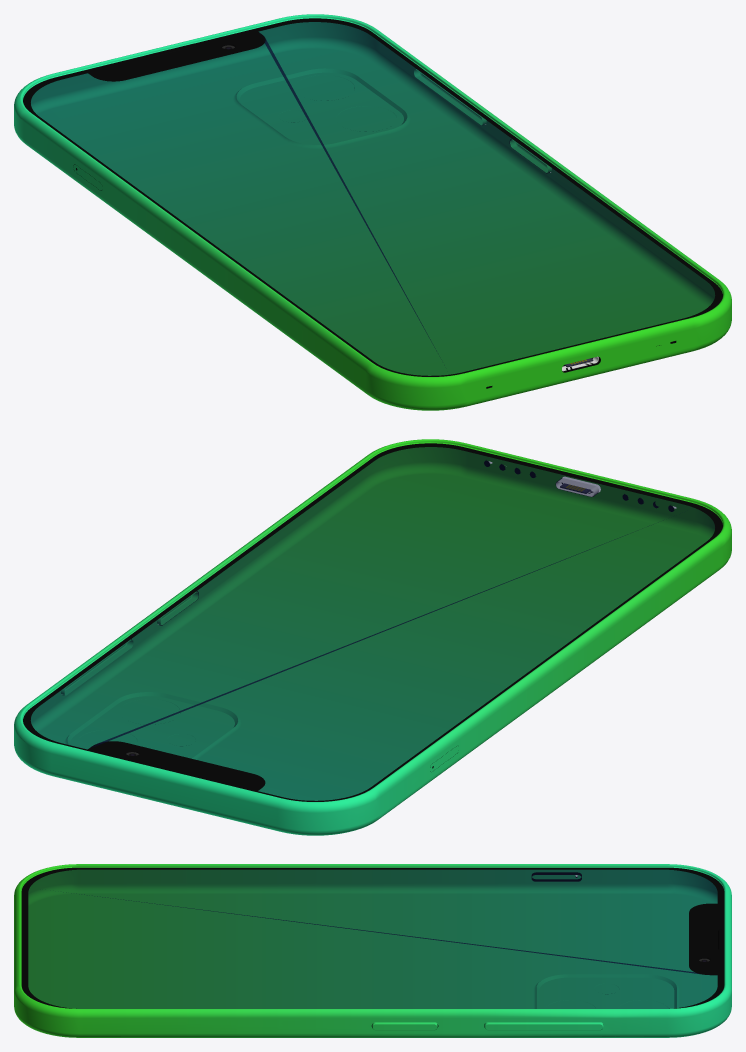
File: Smartphone_I.fbx
3 views of the same model, one above another, from view 1: azimuth 30°, elevation 25°; view 2: azimuth 150°, elevation 25°; view 3: azimuth 270°, elevation 25° (orthographic). The views are drawn at different scales.
Parts seen in each view (by area): view 1: Smartphone_I; view 2: Smartphone_I; view 3: Smartphone_I.
Part boxes in pixels (x1,y1,x2,y2): Smartphone_I: (14, 14, 731, 410); Smartphone_I: (14, 439, 731, 835); Smartphone_I: (14, 864, 731, 1037).
Size of the model in its own units: 0.1435 by 0.2884 by 0.0139.
